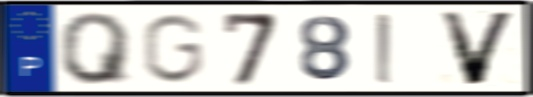7: (220, 10, 280, 87)
8: (297, 14, 355, 84)
G: (139, 11, 208, 86)
I: (373, 11, 397, 86)
Q: (56, 10, 136, 87)
V: (436, 9, 521, 88)
